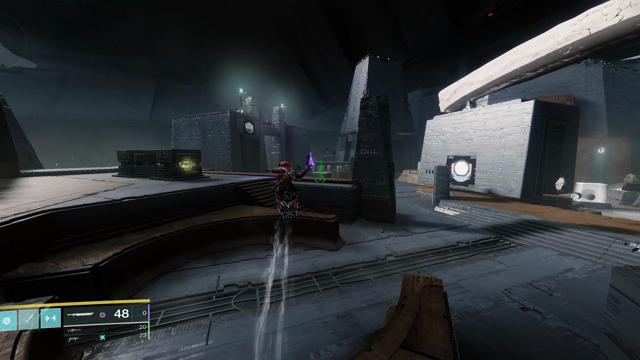commune: (245, 122, 253, 134)
traveler: (451, 161, 471, 182)
